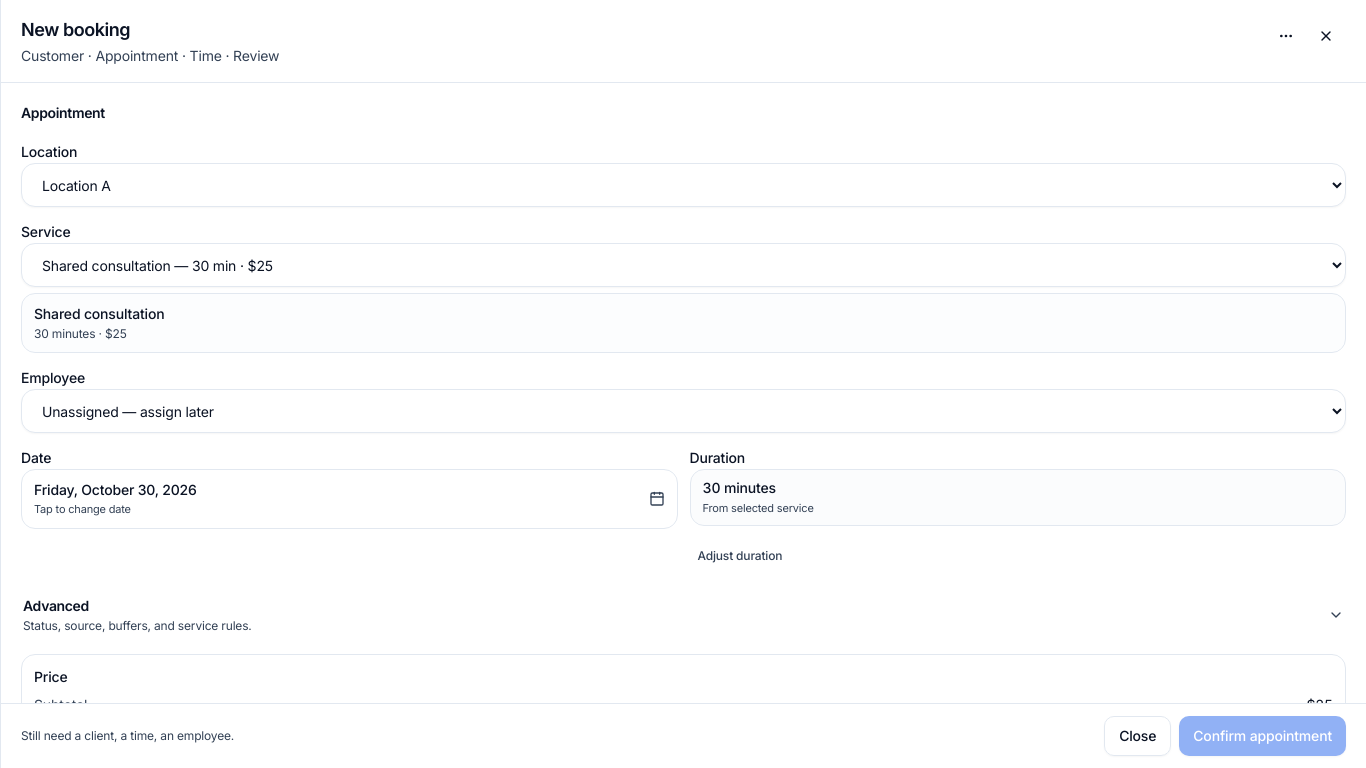
Test case: real Booking Sheet and AppointmentSection location switching › preserves a still-offered service, removes unmapped options, clears an invalid selection
Expected: the dropdown labelled "Service" shows "Shared consultation — 30 min · $25", [21,243,1346,287]
Select "Location B" in the dropdown labelled "Location". click: (684, 185)
box: [21,163,1346,207]
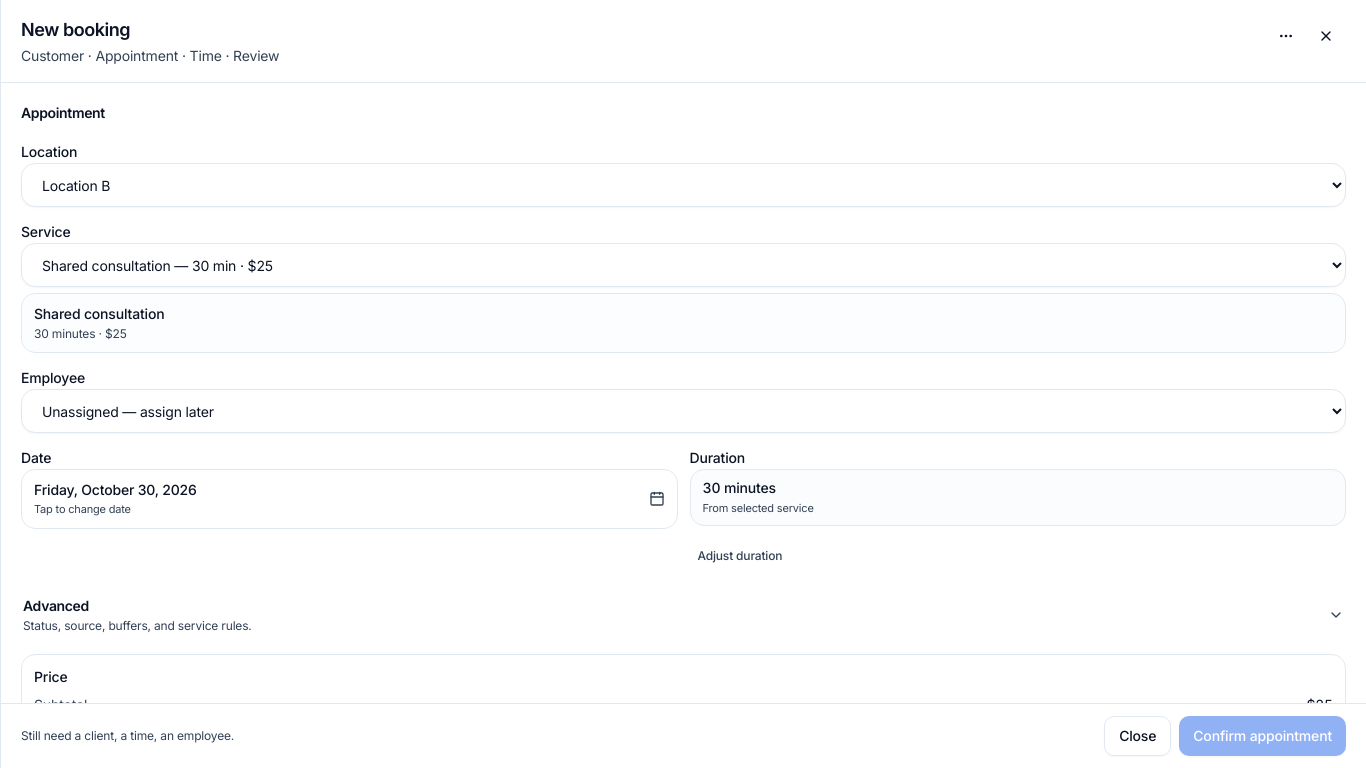
Expected: the dropdown labelled "Service" shows "Shared consultation — 30 min · $25", [21,243,1346,287]
Select "Location C" in the dropdown labelled "Location". click: (684, 185)
box: [21,163,1346,207]
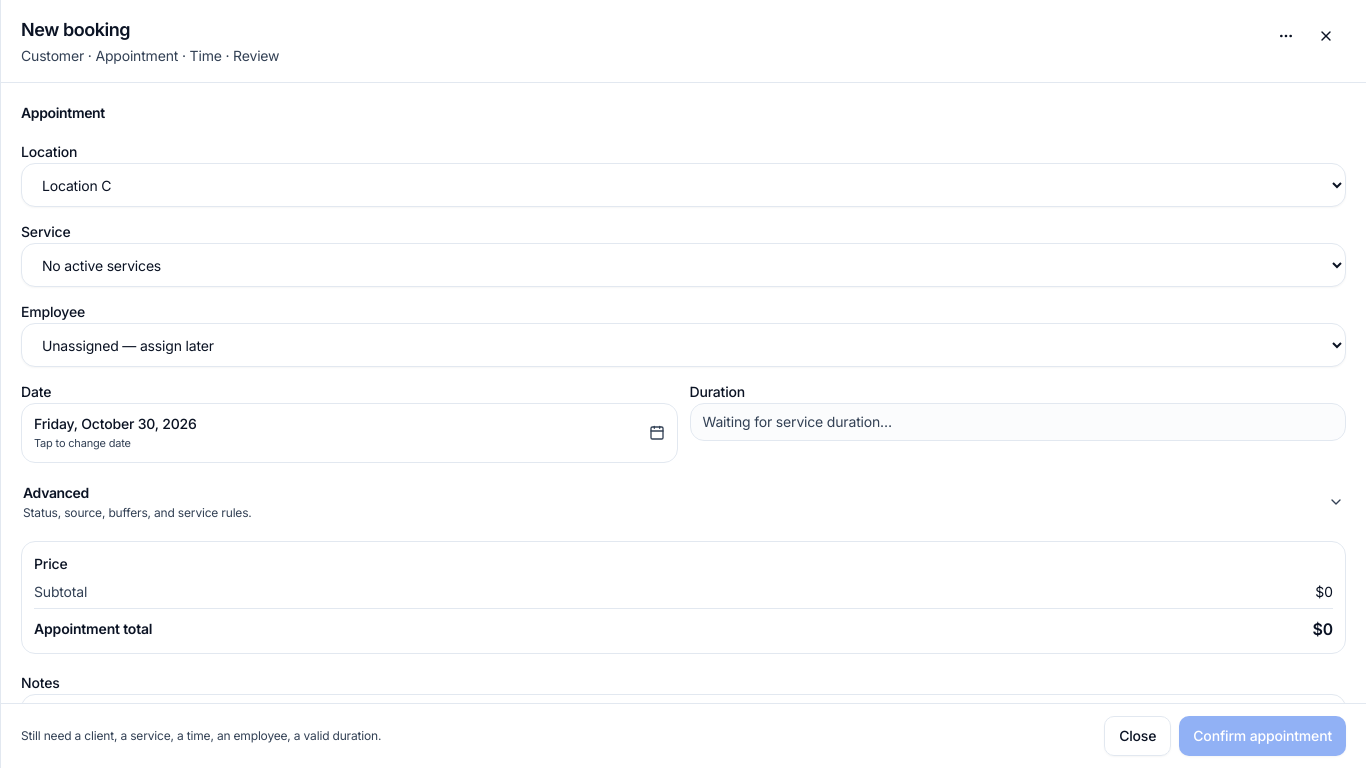
Result: the dropdown labelled "Service" shows "No active services" at [21,243,1346,287]
Select "Location A" in the dropdown labelled "Location". click: (684, 185)
box: [21,163,1346,207]
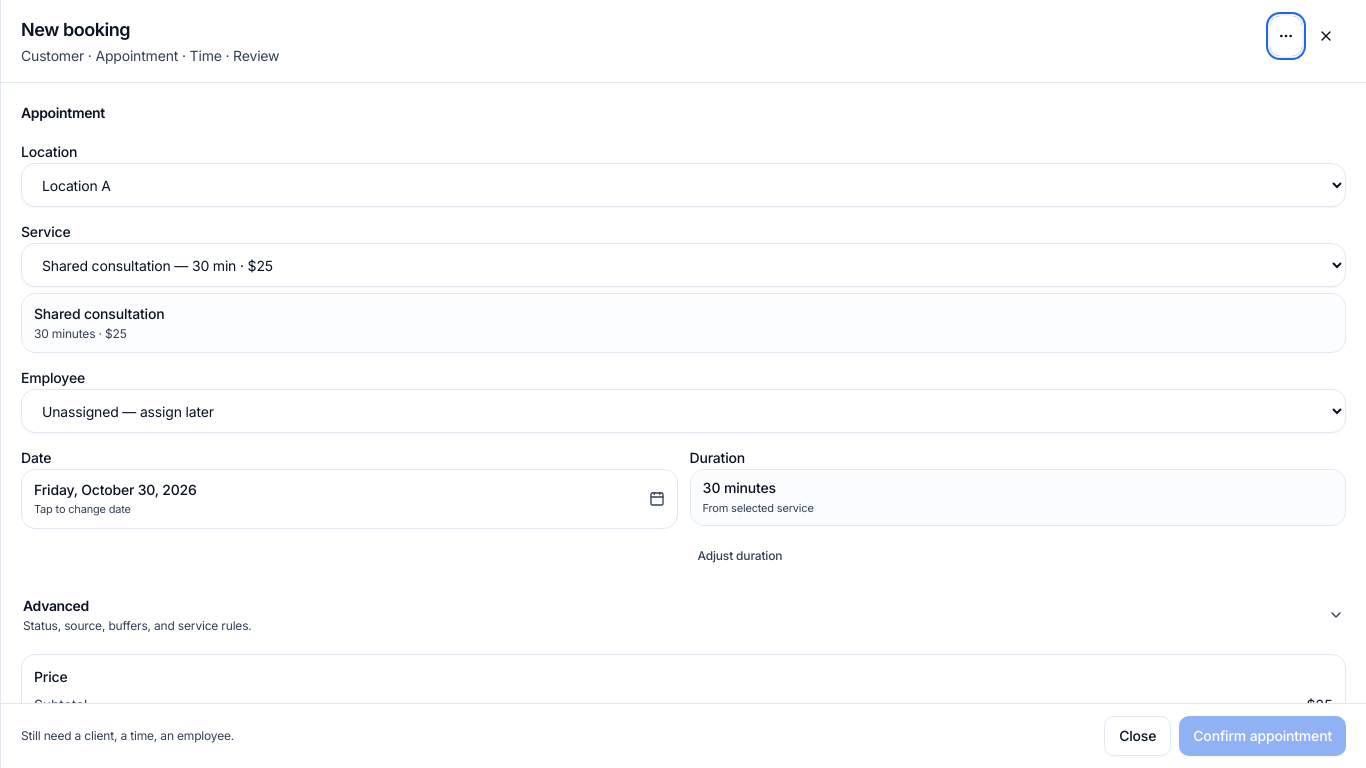
Result: the dropdown labelled "Service" shows "Shared consultation — 30 min · $25" at [21,243,1346,287]
